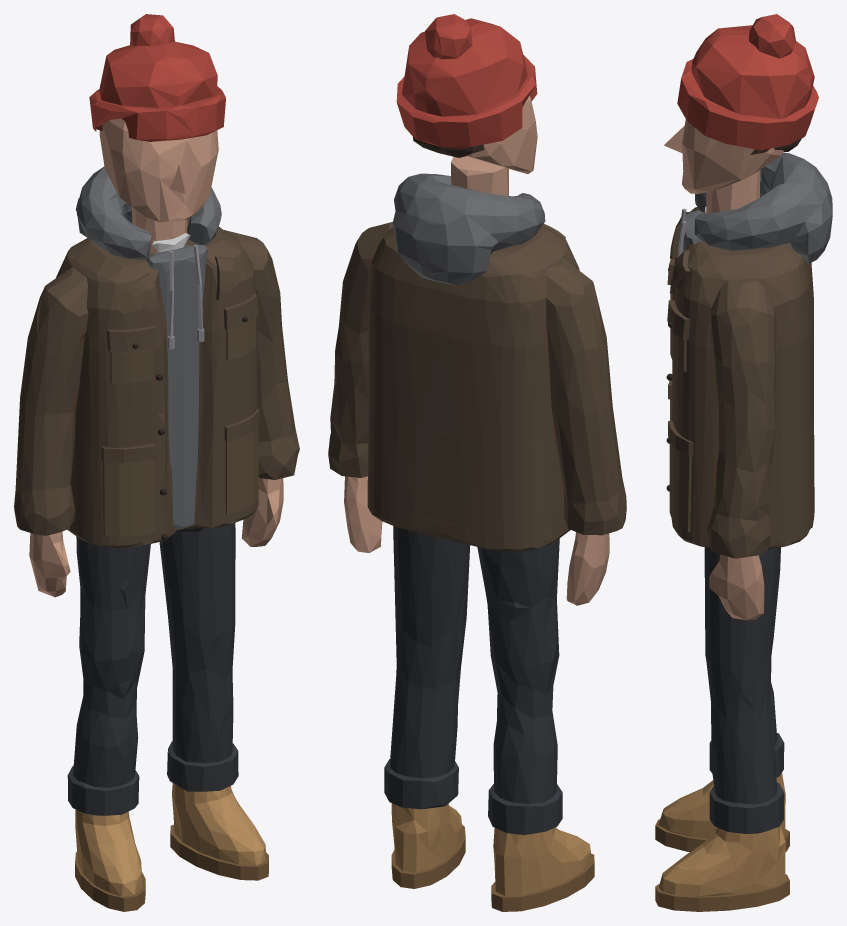
The model's file is camper.glb.
3 views of the same model, side by side, from view 1: azimuth 30°, elevation 25°; view 2: azimuth 150°, elevation 25°; view 3: azimuth 270°, elevation 25° (orthographic). The views are drawn at different scales.
Parts seen in each view (by area): view 1: Camper_Jeans, Camper_Jacket, Camper_Sleeves, Camper_Boots, Camper_Pockets, Camper_Hoodie, Camper_Head, Camper_BeanieCrown, Camper_Hood, Camper_JeansCuffs, Camper_BeanieCuff, Camper_Hands (+6 smaller); view 2: Camper_Jacket, Camper_Jeans, Camper_Sleeves, Camper_Hood, Camper_Boots, Camper_BeanieCrown, Camper_JeansCuffs, Camper_BeanieCuff, Camper_Hands, Camper_Soles, Camper_Head, Camper_Neck (+1 smaller); view 3: Camper_Jacket, Camper_Sleeves, Camper_Jeans, Camper_Hood, Camper_Boots, Camper_BeanieCrown, Camper_BeanieCuff, Camper_Head, Camper_Soles, Camper_Hands, Camper_JeansCuffs, Camper_Pockets (+5 smaller).
Boxes of the visible parts, x1,y1,x2,y2 form: Camper_Jeans: (73,523,235,787); Camper_Jacket: (56,220,258,547); Camper_Sleeves: (14,230,299,535); Camper_Boots: (75,783,265,896); Camper_Pockets: (103,318,258,536); Camper_Hoodie: (147,245,208,528); Camper_Head: (99,118,218,222); Camper_BeanieCrown: (99,41,217,107); Camper_Hood: (75,166,221,259); Camper_JeansCuffs: (67,741,238,815); Camper_BeanieCuff: (89,86,225,141); Camper_Hands: (29,478,283,597); Camper_Jacket: (367,225,579,551); Camper_Jeans: (389,526,559,803); Camper_Sleeves: (328,222,626,535); Camper_Hood: (393,173,545,285); Camper_Boots: (391,803,591,895); Camper_BeanieCrown: (402,18,527,116); Camper_JeansCuffs: (384,759,562,834); Camper_BeanieCuff: (396,54,537,148); Camper_Hands: (344,476,609,605); Camper_Soles: (391,824,594,911); Camper_Head: (466,96,537,174); Camper_Neck: (451,156,508,195); Camper_Jacket: (671,207,814,549); Camper_Sleeves: (707,280,776,558); Camper_Jeans: (704,547,780,804); Camper_Hood: (694,153,832,263); Camper_Boots: (658,773,785,896); Camper_BeanieCrown: (691,25,814,118); Camper_BeanieCuff: (677,59,818,150); Camper_Head: (682,119,783,193); Camper_Soles: (655,819,789,911); Camper_Hands: (709,554,764,620); Camper_JeansCuffs: (709,733,784,833); Camper_Pockets: (669,287,691,531).
Bounding box in the file's own units: 0.6309 × 1.82 × 0.3419.
